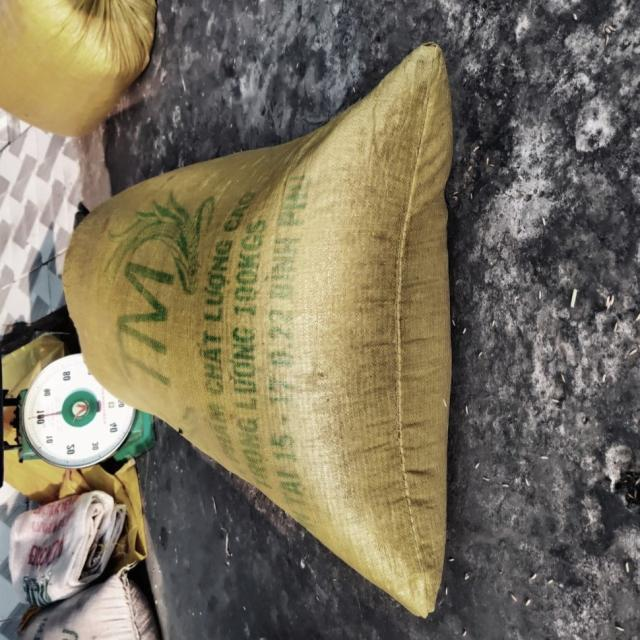gunny_bag: (63, 43, 451, 618)
